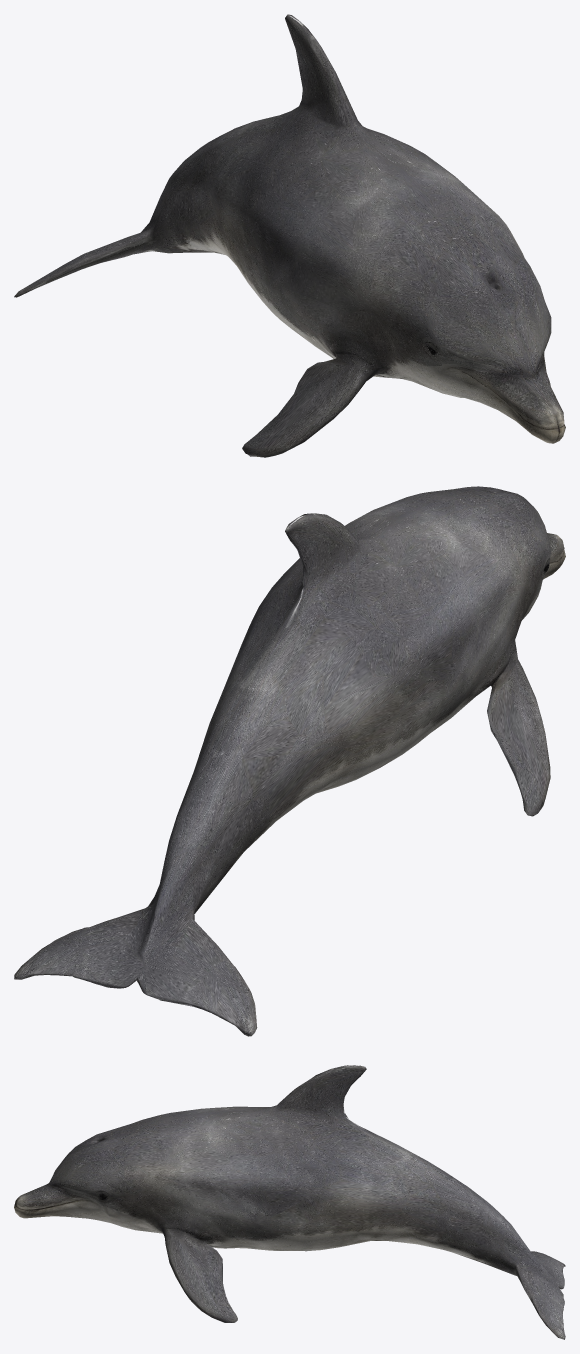
File: delfin.glb
3 renders of one model, top to bottom at view 1: azimuth 30°, elevation 25°; view 2: azimuth 150°, elevation 25°; view 3: azimuth 270°, elevation 25°, orthographic. The views are drawn at different scales.
Bounding box in the file's own units: 0.7477 × 0.9017 × 1.9.
1 material, 1 textured.
